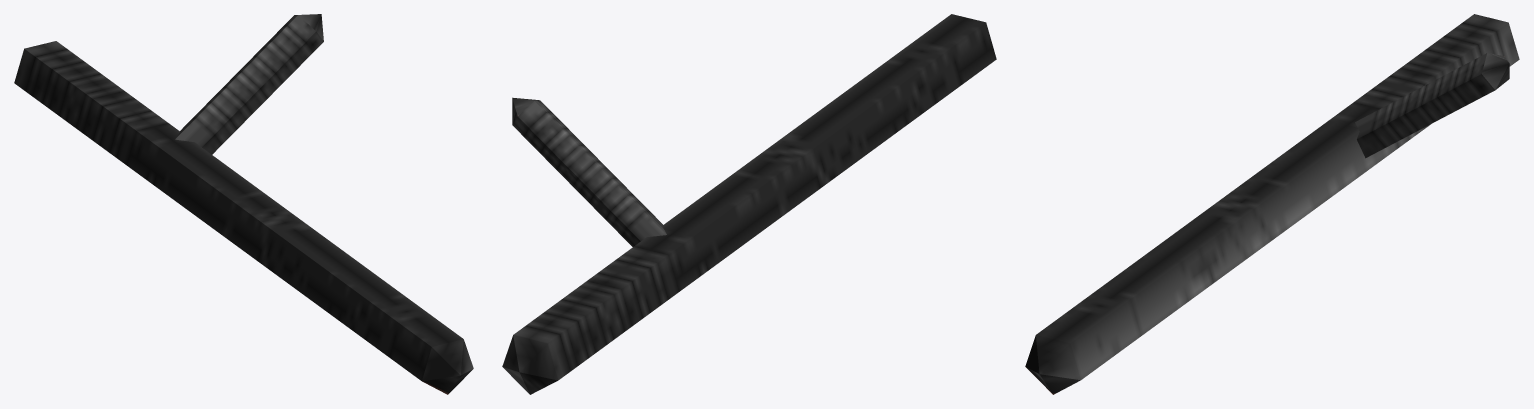
The model's file is Tonfa.fbx.
The picture shows the model from 3 angles, left to right: view 1: azimuth 30°, elevation 25°; view 2: azimuth 150°, elevation 25°; view 3: azimuth 330°, elevation 25°; orthographic projection. The views are drawn at different scales.
Visible parts, largest first — view 1: Tonfa; view 2: Tonfa; view 3: Tonfa.
Boxes of the visible parts, x1,y1,x2,y2 form: Tonfa: (14, 14, 473, 394); Tonfa: (502, 14, 996, 394); Tonfa: (1025, 14, 1519, 394).
Size of the model in its own units: 14.09 by 11.26 by 60.
1 material, 1 textured.
